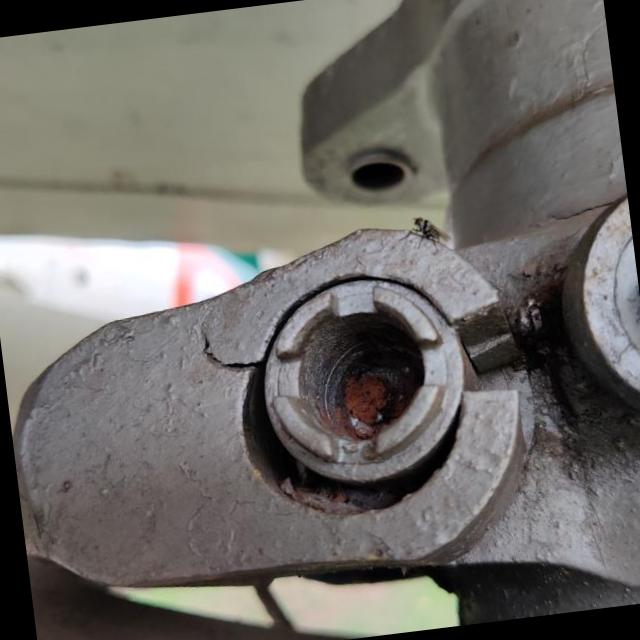Crack: (197, 325, 263, 374)
